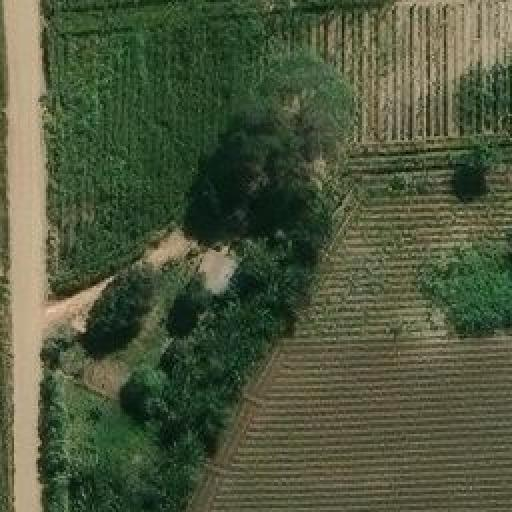manzanas: (183, 235, 249, 303)
